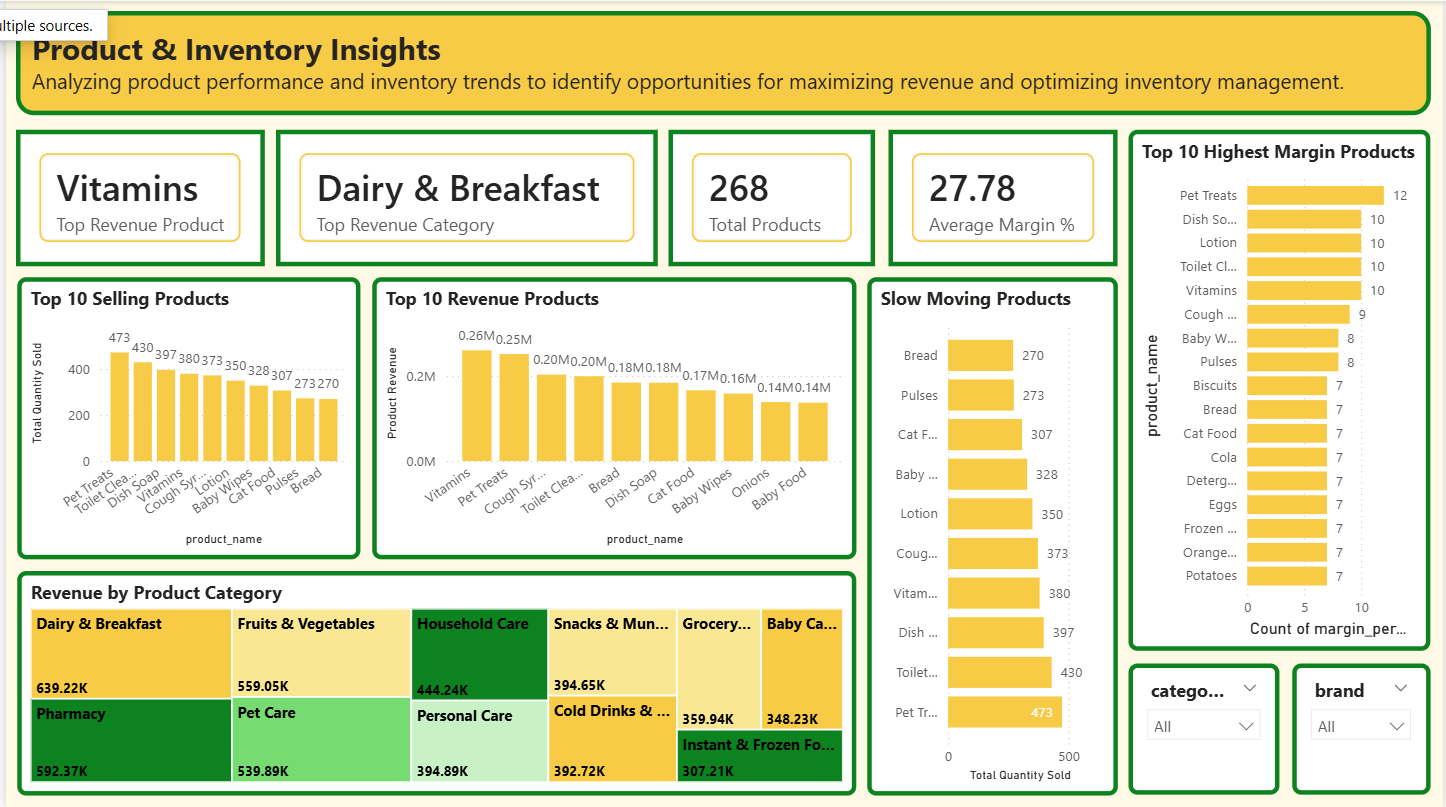

What the dashboard file says about the page in this screenshot:
{"tool":"powerbi","page":{"name":"Product & Inventory Insights","canvas":[1280,720],"ordinal":2},"visuals":[{"type":"textbox","box":[9,9,1260.1,92.4],"z":0},{"type":"cardVisual","fields":{"Data":["blinkit_customer_feedback.Top Revenue Product"]},"box":[8.6,114.3,221.4,121.4],"z":1000},{"type":"cardVisual","fields":{"Data":["blinkit_customer_feedback.Top Revenue Category"]},"box":[240,114.3,340,121.4],"z":2000},{"type":"cardVisual","fields":{"Data":["blinkit_customer_feedback.Total Products"]},"box":[590,114.3,184.3,121.4],"z":3000},{"type":"cardVisual","fields":{"Data":["blinkit_customer_feedback.Average Margin %"]},"box":[785.7,114.3,204.3,121.4],"z":4000},{"type":"clusteredColumnChart","title":"Top 10 Selling Products","fields":{"Category":["blinkit_products.product_name"],"Y":["blinkit_customer_feedback.Total Quantity Sold"]},"box":[10,245.7,305.7,251.4],"z":5000},{"type":"treemap","title":"Revenue by Product Category","fields":{"Group":["blinkit_products.category"],"Values":["blinkit_customer_feedback.Product Revenue"]},"box":[10,507.1,747.1,200],"z":6000},{"type":"clusteredColumnChart","title":"Top 10 Revenue Products","fields":{"Category":["blinkit_products.product_name"],"Y":["blinkit_customer_feedback.Product Revenue"]},"box":[325.7,245.7,431.4,251.4],"z":7000},{"type":"clusteredBarChart","title":"Top 10 Highest Margin Products","fields":{"Category":["blinkit_products.product_name"],"Y":["CountNonNull(blinkit_products.margin_percentage)"]},"box":[1000,114.3,268.6,464.3],"z":8000},{"type":"clusteredBarChart","title":"Slow Moving Products","fields":{"Category":["blinkit_products.product_name"],"Y":["blinkit_customer_feedback.Total Quantity Sold"]},"box":[767.1,245.7,222.9,461.4],"z":9000},{"type":"slicer","fields":{"Values":["blinkit_products.category"]},"box":[1000,590,134.3,117.1],"z":10000},{"type":"slicer","fields":{"Values":["blinkit_products.brand"]},"box":[1145.7,590,122.9,117.1],"z":11000}]}

Visuals, with their boxes in screenshot pixels (x1, y1, x2, y2):
textbox: [33, 10, 1423, 112]
cardVisual - blinkit_customer_feedback.Top Revenue Product: [32, 126, 276, 260]
cardVisual - blinkit_customer_feedback.Top Revenue Category: [287, 126, 663, 260]
cardVisual - blinkit_customer_feedback.Total Products: [674, 126, 877, 260]
cardVisual - blinkit_customer_feedback.Average Margin %: [890, 126, 1115, 260]
"Top 10 Selling Products" clusteredColumnChart: [34, 271, 371, 549]
"Revenue by Product Category" treemap: [34, 560, 858, 780]
"Top 10 Revenue Products" clusteredColumnChart: [382, 271, 858, 549]
"Top 10 Highest Margin Products" clusteredBarChart: [1126, 126, 1423, 639]
"Slow Moving Products" clusteredBarChart: [869, 271, 1115, 780]
slicer - blinkit_products.category: [1126, 651, 1275, 780]
slicer - blinkit_products.brand: [1287, 651, 1423, 780]
